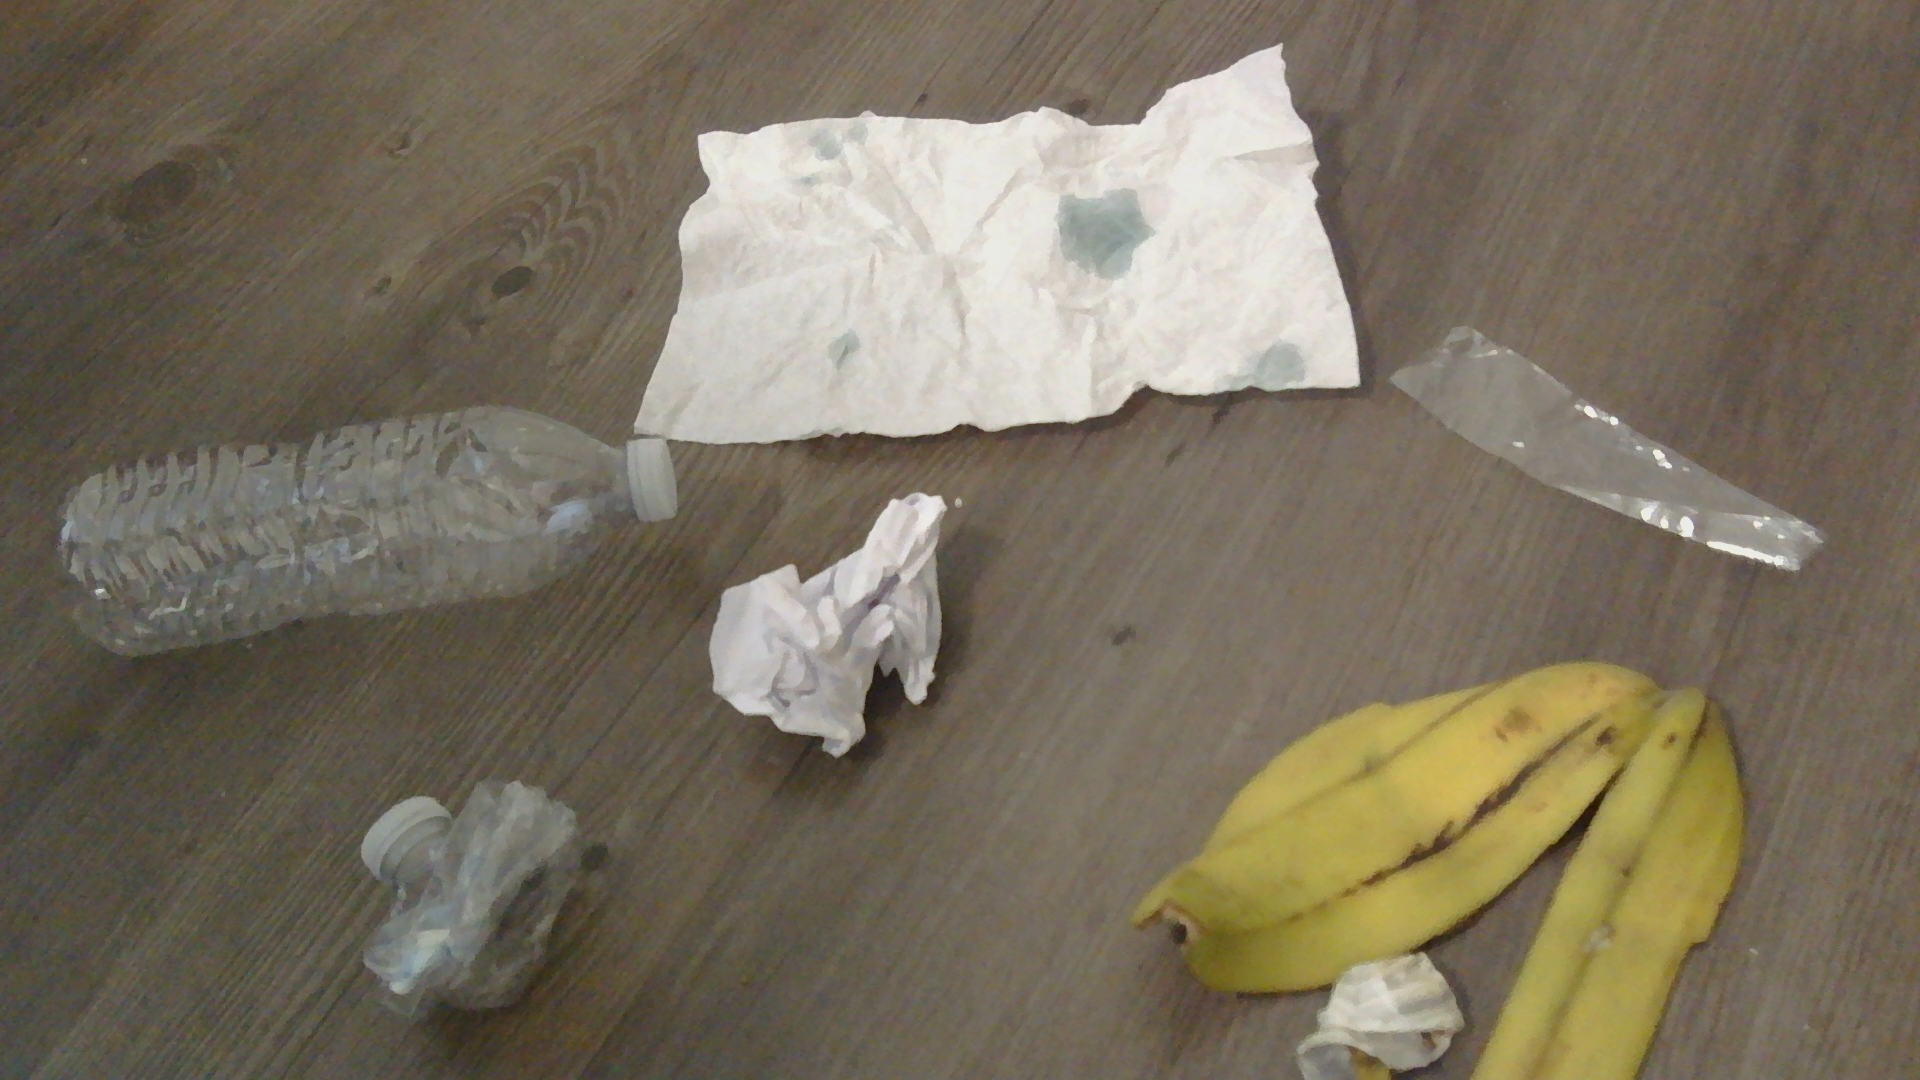banana peel: (1137, 665, 1741, 1077)
bottle: (54, 402, 640, 651)
crushed bottle: (353, 774, 591, 1011)
napkin: (630, 42, 1360, 447)
paper: (1299, 953, 1462, 1079)
paper ball: (702, 487, 951, 760)
plastic piece: (1386, 318, 1826, 567)
